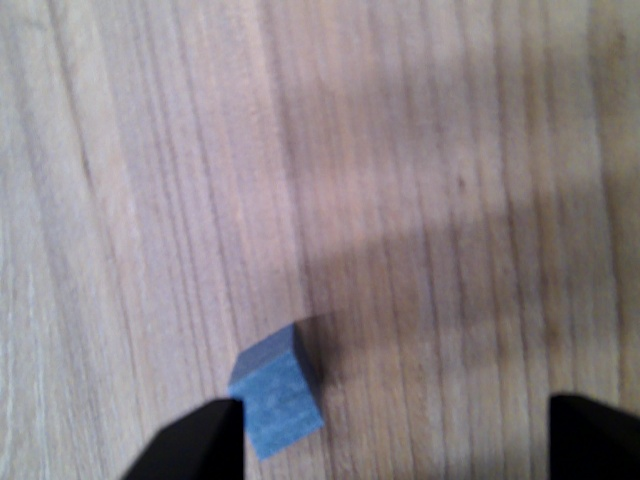stone: (219, 323, 334, 461)
